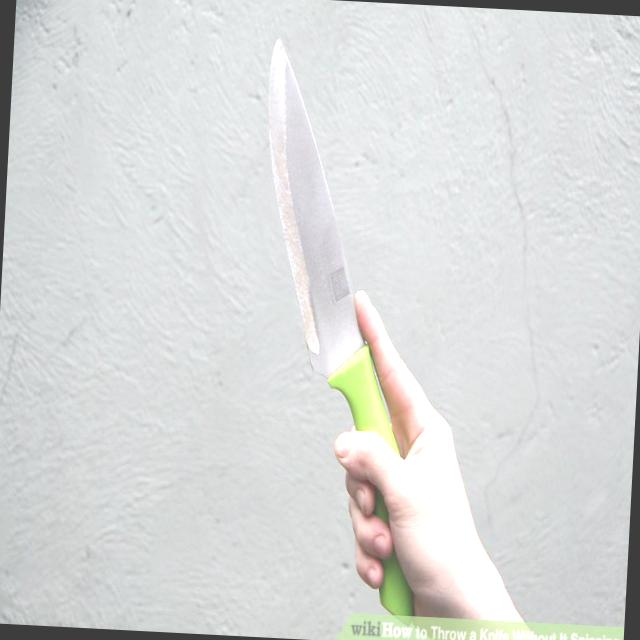knife: (228, 22, 434, 553)
